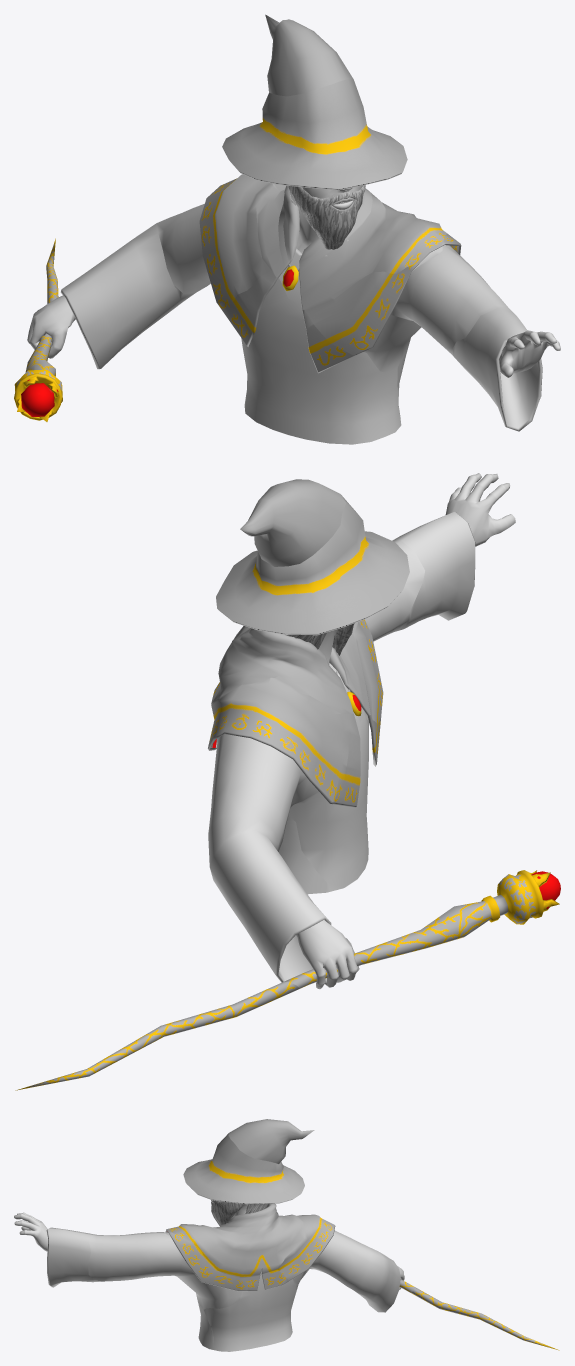
The model's file is wizard_shattered.fbx.
The picture shows the model from 3 angles, top to bottom: view 1: azimuth 30°, elevation 25°; view 2: azimuth 150°, elevation 25°; view 3: azimuth 270°, elevation 25°; orthographic projection. The views are drawn at different scales.
Visible parts, largest first — view 1: wizard_upperBody, wizard_rightArm, wizard_lowerBodyFrontCut, wizard_leftArm, wizard_leftHand, wizard_hatTop; view 2: wizard_rightArm, wizard_upperBody, wizard_leftHand, wizard_lowerBodyFrontCut, wizard_hatTop, wizard_leftArm, wizard_staffBottom, wizard_lowerBodyBackCut; view 3: wizard_upperBody, wizard_leftArm, wizard_rightArm, wizard_lowerBodyBackCut, wizard_leftHand, wizard_hatTop, wizard_staffBottom, wizard_lowerBodyFrontCut.
Boxes of the visible parts, <box> form: wizard_upperBody: <box>222,79,446,310</box>; wizard_rightArm: <box>14,174,273,421</box>; wizard_lowerBodyFrontCut: <box>219,270,401,444</box>; wizard_leftArm: <box>305,233,511,372</box>; wizard_leftHand: <box>452,308,560,431</box>; wizard_hatTop: <box>265,14,353,96</box>; wizard_rightArm: <box>208,677,560,989</box>; wizard_upperBody: <box>211,495,409,721</box>; wizard_leftHand: <box>392,473,515,630</box>; wizard_lowerBodyFrontCut: <box>288,713,381,891</box>; wizard_hatTop: <box>240,479,345,566</box>; wizard_leftArm: <box>354,541,424,724</box>; wizard_staffBottom: <box>15,981,298,1090</box>; wizard_lowerBodyBackCut: <box>212,739,330,894</box>; wizard_upperBody: <box>165,1133,304,1283</box>; wizard_leftArm: <box>88,1231,248,1309</box>; wizard_rightArm: <box>278,1214,414,1312</box>; wizard_lowerBodyBackCut: <box>204,1269,296,1351</box>; wizard_leftHand: <box>14,1212,100,1287</box>; wizard_hatTop: <box>228,1119,314,1163</box>; wizard_staffBottom: <box>410,1287,559,1350</box>; wizard_lowerBodyFrontCut: <box>196,1293,213,1349</box>.
Bounding box in the file's own units: 154 × 160 × 347.
